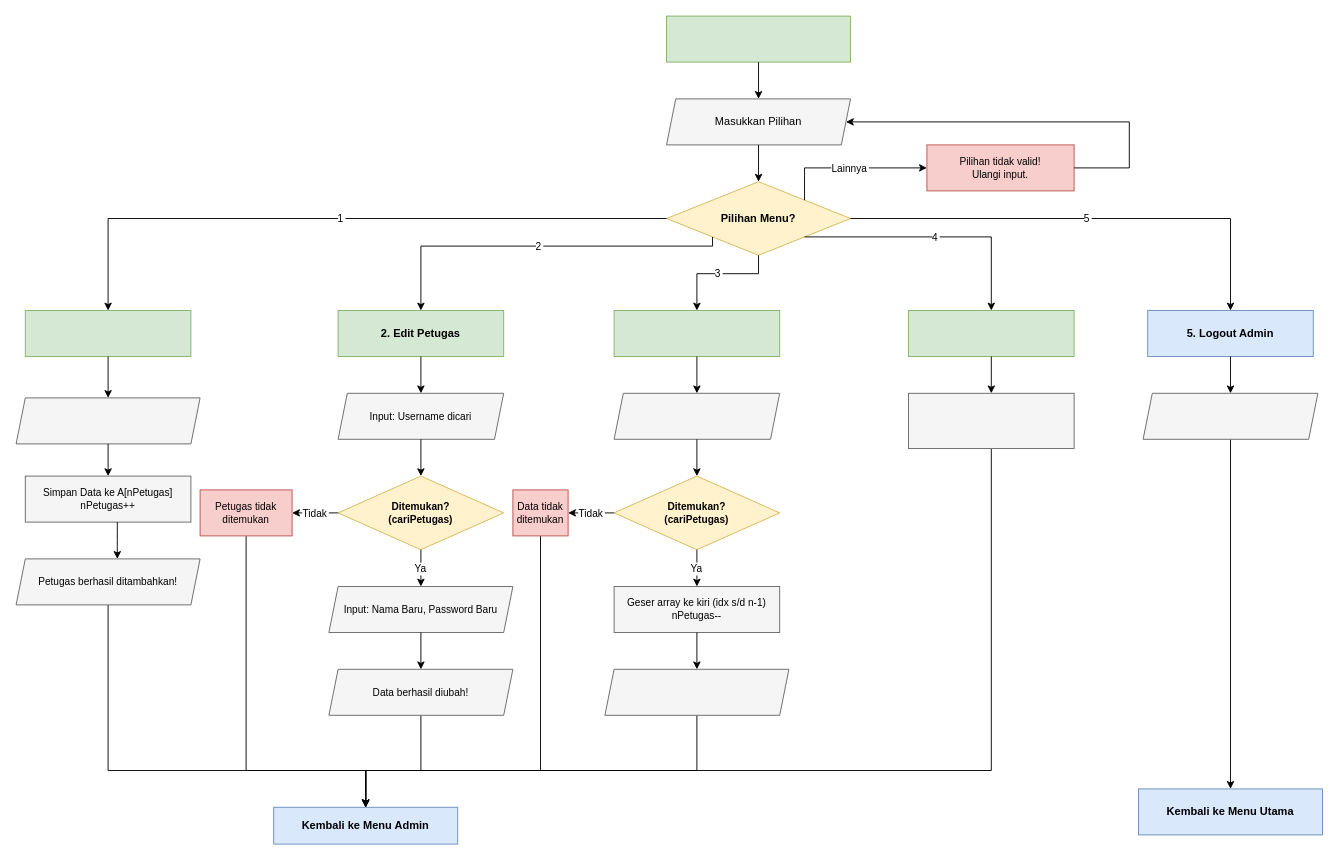
This 1339x860 diagram has some shape labels left out. Each missing label, with the centre of its shape:
"1. Tambah Petugas" belongs at pixel 107 333.
"3. Hapus Petugas" belongs at pixel 696 333.
"4. Lihat Petugas" belongs at pixel 991 333.
"Input: Nama, Username, Password" belongs at pixel 107 420.
"Input: Username" belongs at pixel 696 415.
"Logout admin berhasil → Kembali ke Menu Utama" belongs at pixel 1230 415.
"Menu Admin" belongs at pixel 758 38.
"Petugas berhasil dihapus!" belongs at pixel 696 691.
"Tampilkan seluruh data petugas" belongs at pixel 991 420.
